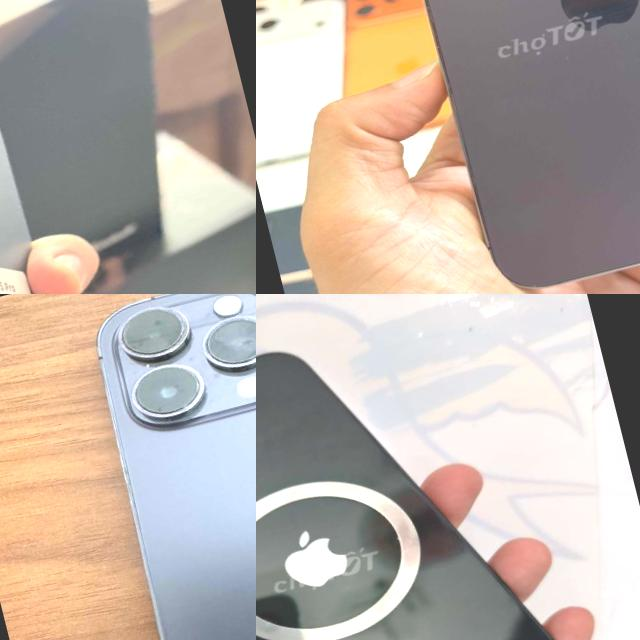gen_12_13: (256, 295, 582, 640)
gen_14: (343, 0, 640, 294), (46, 294, 256, 640)
gen_15: (0, 0, 175, 294)
